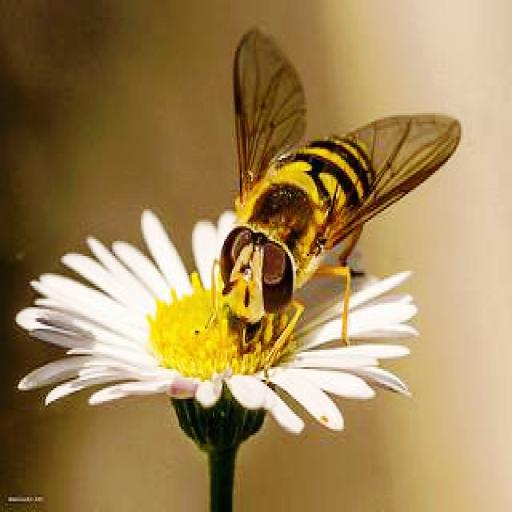daisy: (35, 216, 410, 401)
